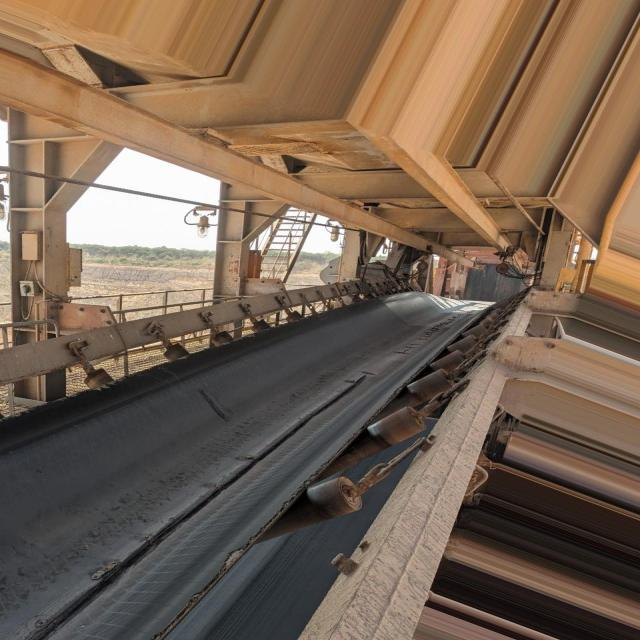Roller: (260, 328, 498, 542)
Tear: (16, 375, 356, 638)
